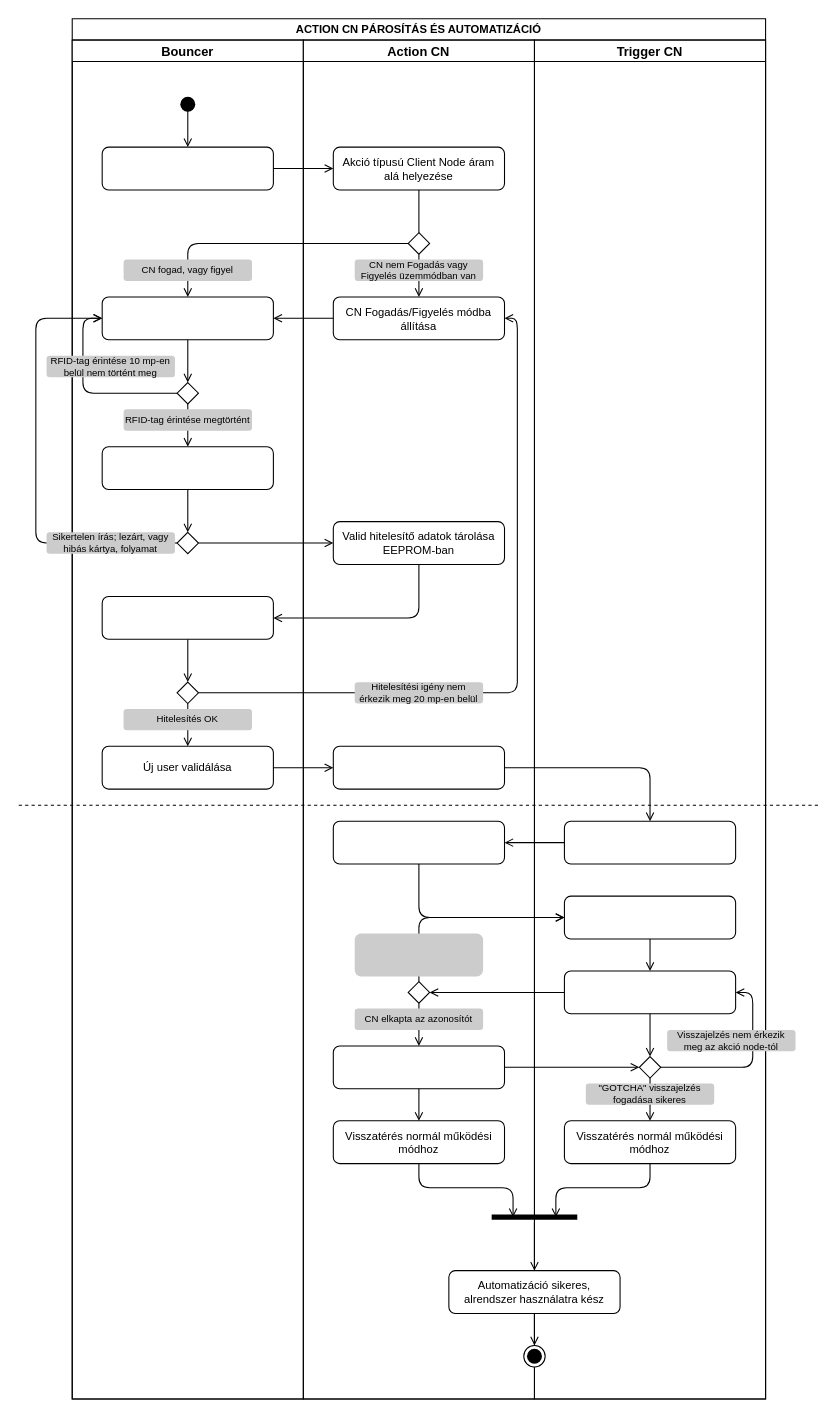
Some shapes in this 839 by 1418 pixel diagram are drawn without their labels. Here are the shapes that lost their labels. From the top down, the centre of each, then its label:
(x=187, y=168): Bouncer bekapcsolása, service-ek elindítása
(x=187, y=318): Hitelesítési adatok kiállításának kérése gombnyomással
(x=187, y=468): Hitelesítő adatok írása RFID-tagre
(x=187, y=617): Hitelesítési igényre való várakozás
(x=418, y=767): Client Node párosítva, használatra kész
(x=418, y=842): Akció típusú CN Fogadás módba állítása
(x=649, y=842): Párosított, esemény típusú CN bekapcsolása
(x=649, y=917): Esemény típusú CN Sugárzás módba állítása
(x=418, y=954): CN nem fogadta az azonosítót 10 közzétételen belül
(x=649, y=992): Egyedi azonosító közzététele a config/trigger csatornán
(x=418, y=1067): "GOTCHA" üzenet közzététele a trigger/{azonosító} csatornán
